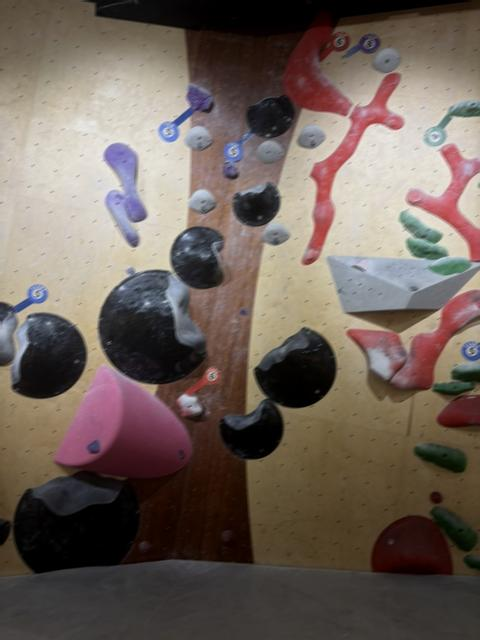crimp: (399, 211, 442, 243)
downhold: (371, 47, 400, 72), (261, 221, 290, 245), (296, 124, 325, 148), (184, 126, 212, 150), (187, 189, 216, 212), (256, 140, 283, 163)
jib: (13, 471, 139, 572), (86, 439, 100, 452), (221, 529, 234, 543), (138, 540, 151, 552), (125, 266, 134, 274), (238, 308, 248, 314), (409, 286, 419, 291)
jug: (103, 142, 146, 221), (104, 189, 139, 246), (413, 442, 466, 472), (406, 238, 447, 259), (427, 256, 471, 274), (186, 82, 212, 111), (176, 393, 202, 417), (432, 380, 474, 394), (221, 159, 238, 178)
ledge: (254, 327, 336, 407), (219, 398, 283, 458), (232, 181, 279, 225), (246, 94, 294, 137)
pinch: (301, 73, 403, 264)
sidepull: (98, 269, 205, 383), (283, 10, 352, 114), (10, 312, 86, 398), (170, 226, 223, 288)
sloper: (370, 516, 452, 572)
tape: (158, 107, 194, 141), (223, 129, 254, 161), (185, 366, 220, 394), (423, 113, 452, 146), (318, 31, 349, 61), (13, 284, 47, 311), (342, 34, 379, 57), (461, 341, 480, 360)
undercling: (390, 289, 480, 388), (347, 329, 407, 381), (436, 395, 480, 426)
volume: (53, 364, 191, 477), (328, 255, 480, 312)
